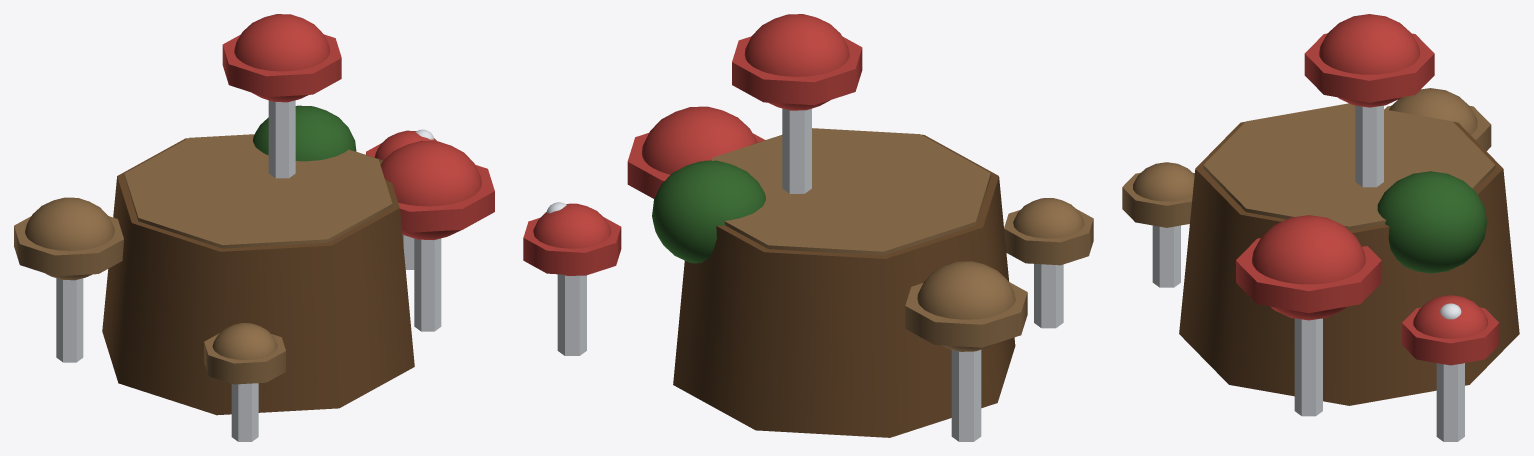
The model's file is buisson_foret_3.glb.
3 views of the same model, side by side, from view 1: azimuth 30°, elevation 25°; view 2: azimuth 150°, elevation 25°; view 3: azimuth 270°, elevation 25° (orthographic). The views are drawn at different scales.
Parts seen in each view (by area): view 1: souche.002, champignons_bois.002, champignons_rouge.002, champignons_blanc.002, champignons_feuille_sombre.002; view 2: souche.002, champignons_bois.002, champignons_rouge.002, champignons_blanc.002, champignons_feuille_sombre.002; view 3: souche.002, champignons_bois.002, champignons_rouge.002, champignons_blanc.002, champignons_feuille_sombre.002.
Part boxes in pixels (bbox=[...]): souche.002: bbox=[102, 138, 414, 415]; champignons_bois.002: bbox=[14, 134, 392, 384]; champignons_rouge.002: bbox=[222, 14, 494, 240]; champignons_blanc.002: bbox=[56, 100, 441, 441]; champignons_feuille_sombre.002: bbox=[253, 105, 356, 161]; souche.002: bbox=[673, 134, 1015, 437]; champignons_bois.002: bbox=[712, 128, 1093, 351]; champignons_rouge.002: bbox=[523, 14, 862, 275]; champignons_blanc.002: bbox=[546, 108, 1063, 441]; champignons_feuille_sombre.002: bbox=[652, 160, 765, 263]; souche.002: bbox=[1179, 121, 1519, 405]; champignons_bois.002: bbox=[1122, 88, 1495, 230]; champignons_rouge.002: bbox=[1236, 14, 1499, 365]; champignons_blanc.002: bbox=[1152, 105, 1464, 441]; champignons_feuille_sombre.002: bbox=[1377, 171, 1487, 273].
Bounding box in the file's own units: 0.66 × 0.4513 × 0.49.
